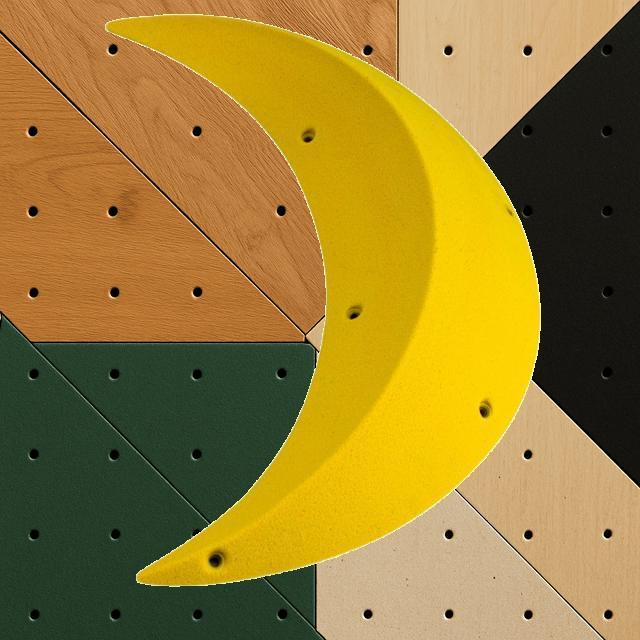Sloper: (104, 13, 542, 587)
